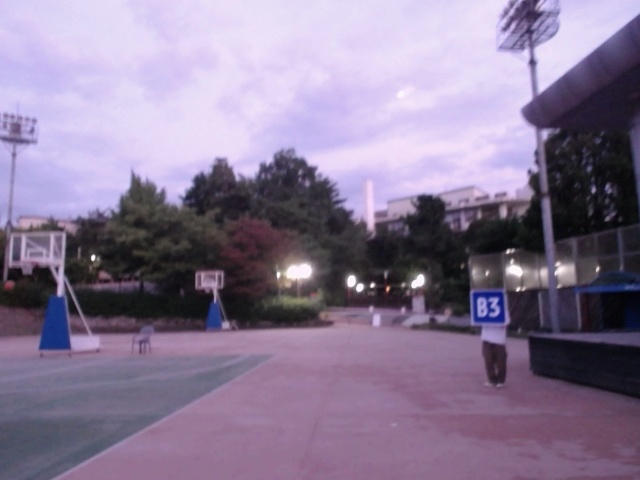delivery_b3: (470, 287, 509, 326)
